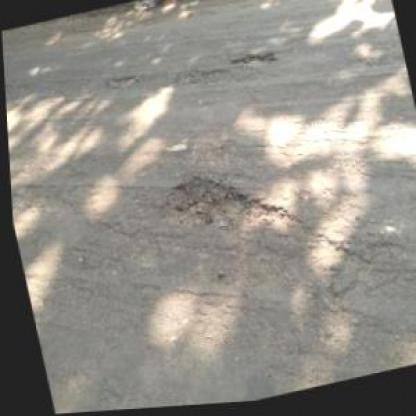pothole: (148, 160, 292, 255), (226, 48, 280, 78), (98, 72, 143, 94)
